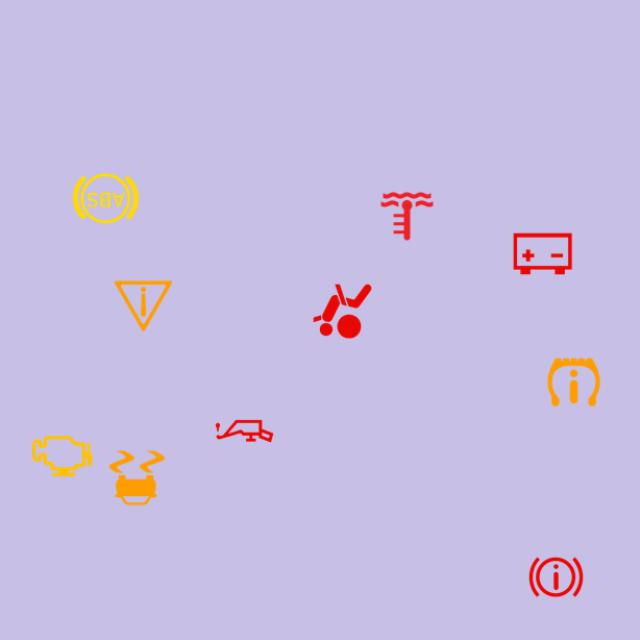Anti Lock Braking System: (70, 162, 142, 235)
Braking System Issue: (520, 541, 592, 613)
Charging System Issue: (506, 218, 578, 290)
Check Engine: (26, 420, 98, 492)
Electronic Stability Problem -ESP-: (101, 442, 173, 514)
Engine Overheating Warning Light: (371, 180, 443, 252)
Low Engine Oil Warning Light: (208, 395, 280, 467)
Low Tire Pressure Warning Light: (538, 346, 610, 418)
Master warning light: (108, 270, 180, 342)
SRS-Airbag: (306, 275, 378, 347)
